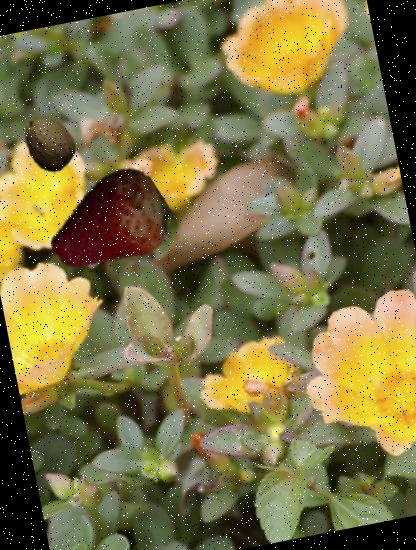Papaya: (12, 106, 85, 178)
Strawberry: (37, 153, 182, 298)
